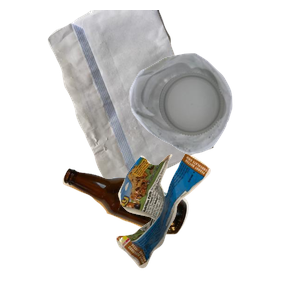glass: (60, 166, 241, 300)
paper: (45, 10, 251, 190)
plastic: (127, 51, 300, 197)
trash: (114, 151, 300, 300)
